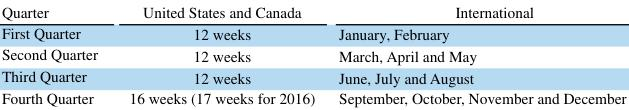table: (0, 0, 625, 107)
table column: (326, 0, 625, 107), (112, 0, 326, 107), (0, 0, 112, 107)
table column header: (0, 0, 625, 21)
table row: (0, 21, 625, 43), (0, 43, 625, 65), (0, 0, 625, 21), (0, 65, 625, 86), (0, 86, 625, 107)
